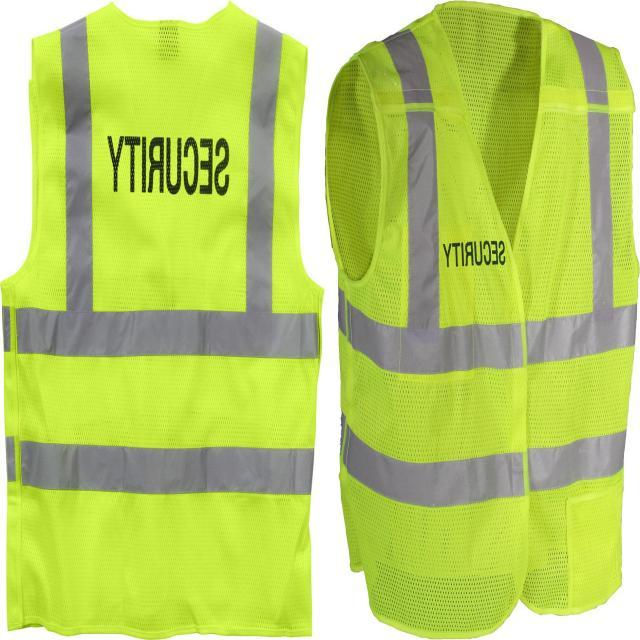reflective_jacket: (2, 0, 338, 639), (325, 0, 639, 639)
